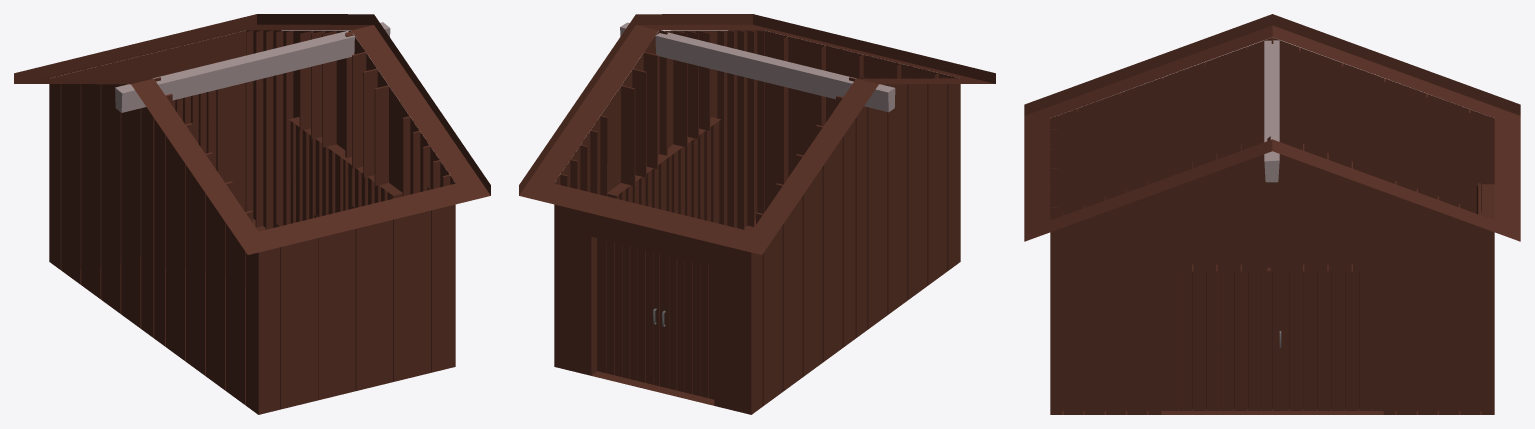
Rendered from stable01.fbx.
3 views of the same model, side by side, from view 1: azimuth 30°, elevation 25°; view 2: azimuth 150°, elevation 25°; view 3: azimuth 270°, elevation 25° (orthographic). The views are drawn at different scales.
Visible parts, largest first — view 1: Box010, Box040, Object010, Object018; view 2: Box010, Object018, Box040, Object010; view 3: Box010, Object010, Box040.
Part boxes in pixels (x1,y1,x2,y2): Box010: (14, 14, 490, 414); Box040: (115, 22, 390, 112); Object010: (288, 120, 395, 223); Object018: (172, 89, 217, 171); Box010: (519, 14, 995, 414); Object018: (597, 238, 714, 399); Box040: (620, 22, 895, 112); Object010: (616, 119, 721, 223); Box010: (1024, 14, 1520, 414); Object010: (1161, 271, 1383, 410); Box040: (1264, 37, 1279, 182).
Size of the model in its own units: 718 by 695 by 1085.
